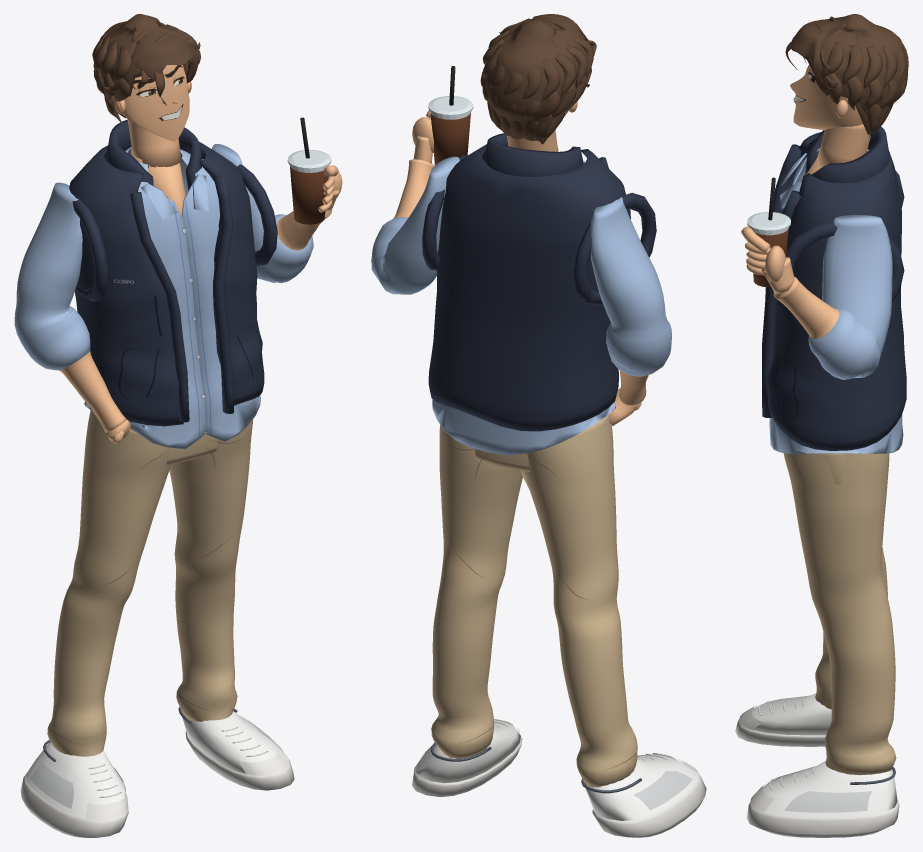
Rendered from techbro.glb.
3 renders of one model, left to right at view 1: azimuth 30°, elevation 25°; view 2: azimuth 150°, elevation 25°; view 3: azimuth 270°, elevation 25°, orthographic. The views are drawn at different scales.
Parts seen in each view (by area): view 1: legs, torso, arm_L, head, arm_R, cup; view 2: legs, torso, head, arm_L, arm_R, cup; view 3: legs, torso, arm_R, head, cup.
Part boxes in pixels (box(x1,y1,x2,y2)): legs: box(20, 410, 294, 837); torso: box(69, 119, 277, 449); arm_L: box(14, 182, 130, 443); head: box(92, 14, 200, 168); arm_R: box(212, 144, 342, 283); cup: box(287, 117, 331, 224); legs: box(412, 414, 706, 837); torso: box(422, 133, 656, 455); head: box(480, 14, 596, 151); arm_L: box(590, 197, 671, 425); arm_R: box(371, 110, 459, 294); cup: box(428, 66, 473, 164); legs: box(735, 453, 899, 837); torso: box(762, 126, 906, 453); arm_R: box(741, 215, 892, 379); head: box(785, 14, 908, 167); cup: box(747, 177, 790, 287).
Bounding box in the file's own units: 0.7085 × 1.8 × 0.3696.
Materials: 16 (5 with a texture image).
